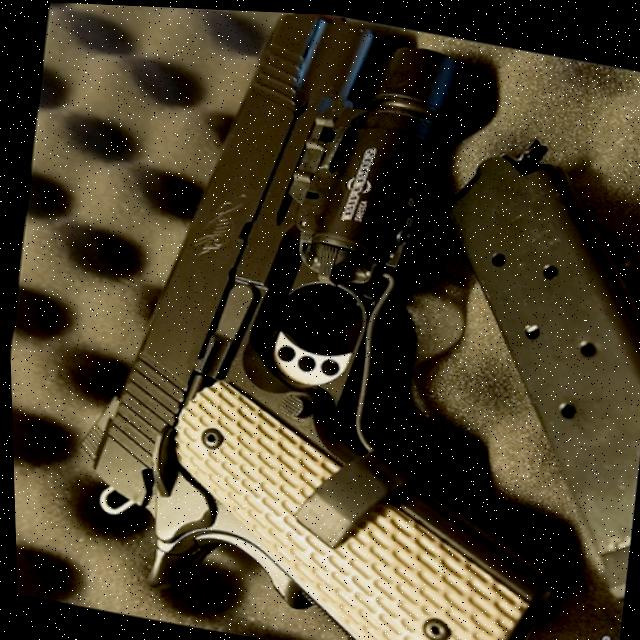pistol: (49, 2, 605, 640)
